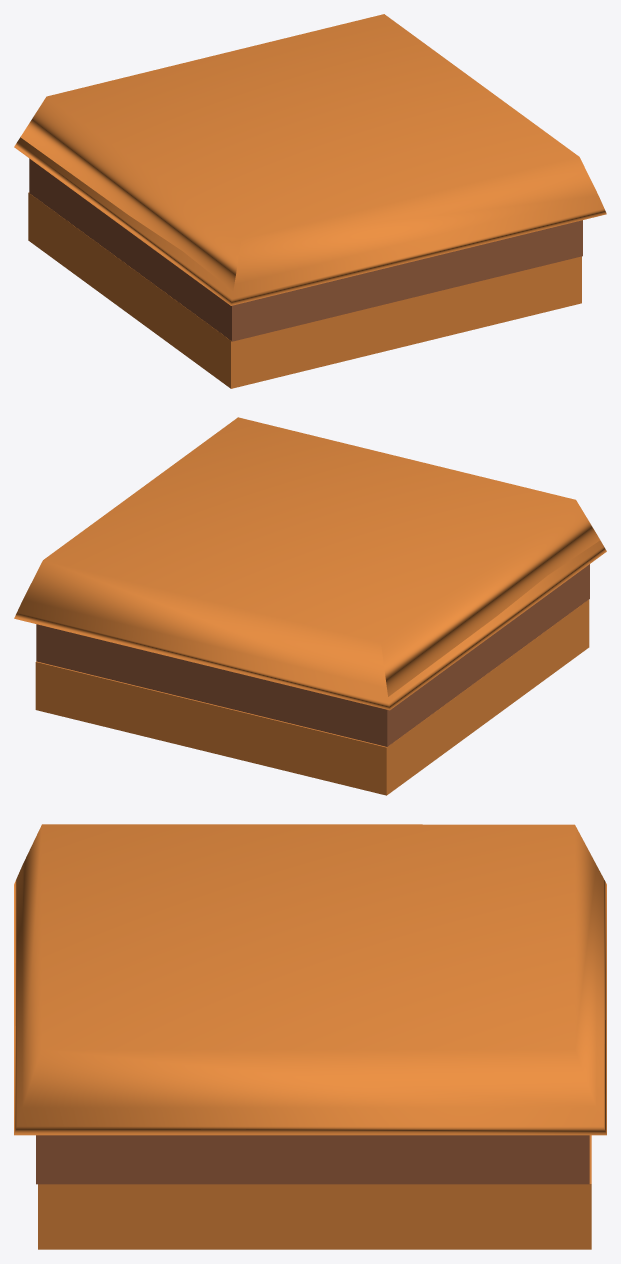
Rendered from burger.glb.
3 renders of one model, top to bottom at view 1: azimuth 30°, elevation 25°; view 2: azimuth 150°, elevation 25°; view 3: azimuth 270°, elevation 25°, orthographic. The views are drawn at different scales.
Visible parts, largest first — view 1: Cube.002, Cube, Cube.001; view 2: Cube.002, Cube, Cube.001; view 3: Cube.002, Cube, Cube.001.
Part boxes in pixels (x1,y1,x2,y2): Cube.002: (14, 14, 606, 305); Cube: (28, 192, 581, 388); Cube.001: (29, 158, 582, 341); Cube.002: (14, 417, 606, 710); Cube: (35, 599, 589, 795); Cube.001: (36, 564, 589, 746); Cube.002: (14, 824, 606, 1135); Cube: (38, 1135, 591, 1249); Cube.001: (36, 1135, 589, 1184).
Bounding box in the file's own units: 21.42 × 7.93 × 21.42.
